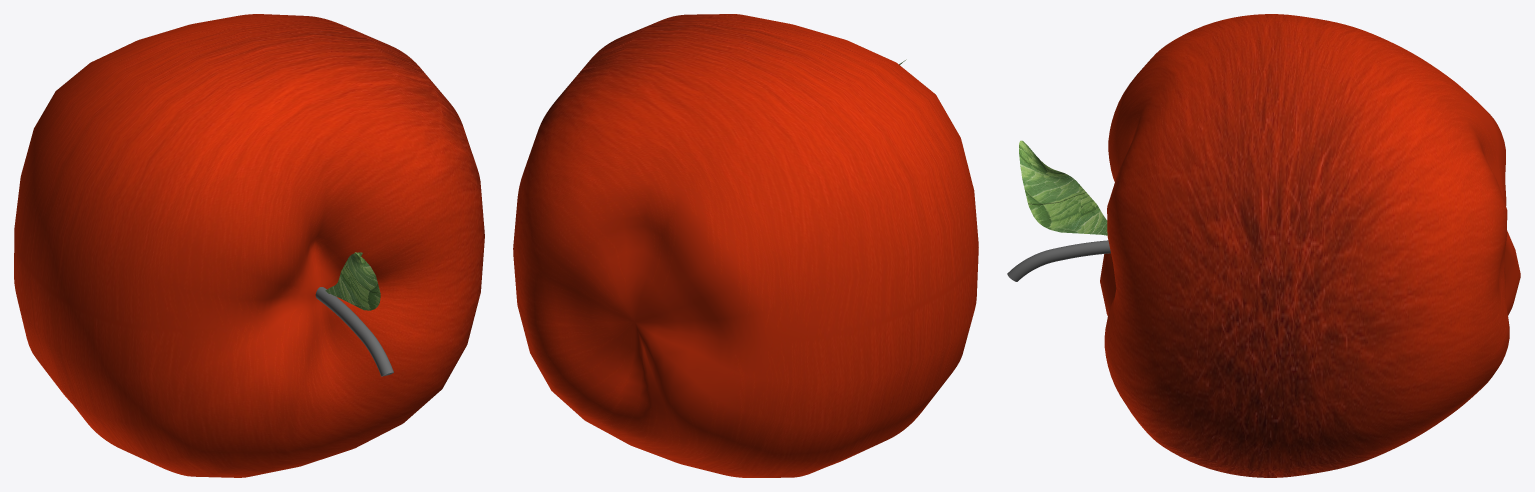
Rendered from Apple.obj.
3 views of the same model, side by side, from view 1: azimuth 30°, elevation 25°; view 2: azimuth 150°, elevation 25°; view 3: azimuth 270°, elevation 25° (orthographic).
Visible parts, largest first — view 1: revolvedSurface1, planarTrimmedSurface2, loftedSurface1; view 2: revolvedSurface1; view 3: revolvedSurface1, planarTrimmedSurface2, loftedSurface1.
Boxes of the visible parts, <box> form: revolvedSurface1: <box>14,14,484,477</box>; planarTrimmedSurface2: <box>325,252,380,310</box>; loftedSurface1: <box>315,287,393,376</box>; revolvedSurface1: <box>513,14,978,477</box>; revolvedSurface1: <box>1100,14,1520,477</box>; planarTrimmedSurface2: <box>1019,140,1107,235</box>; loftedSurface1: <box>1007,240,1110,281</box>.
Size of the model in its own units: 14.05 by 13.7 by 15.77.
Materials: 3 (2 with a texture image).
